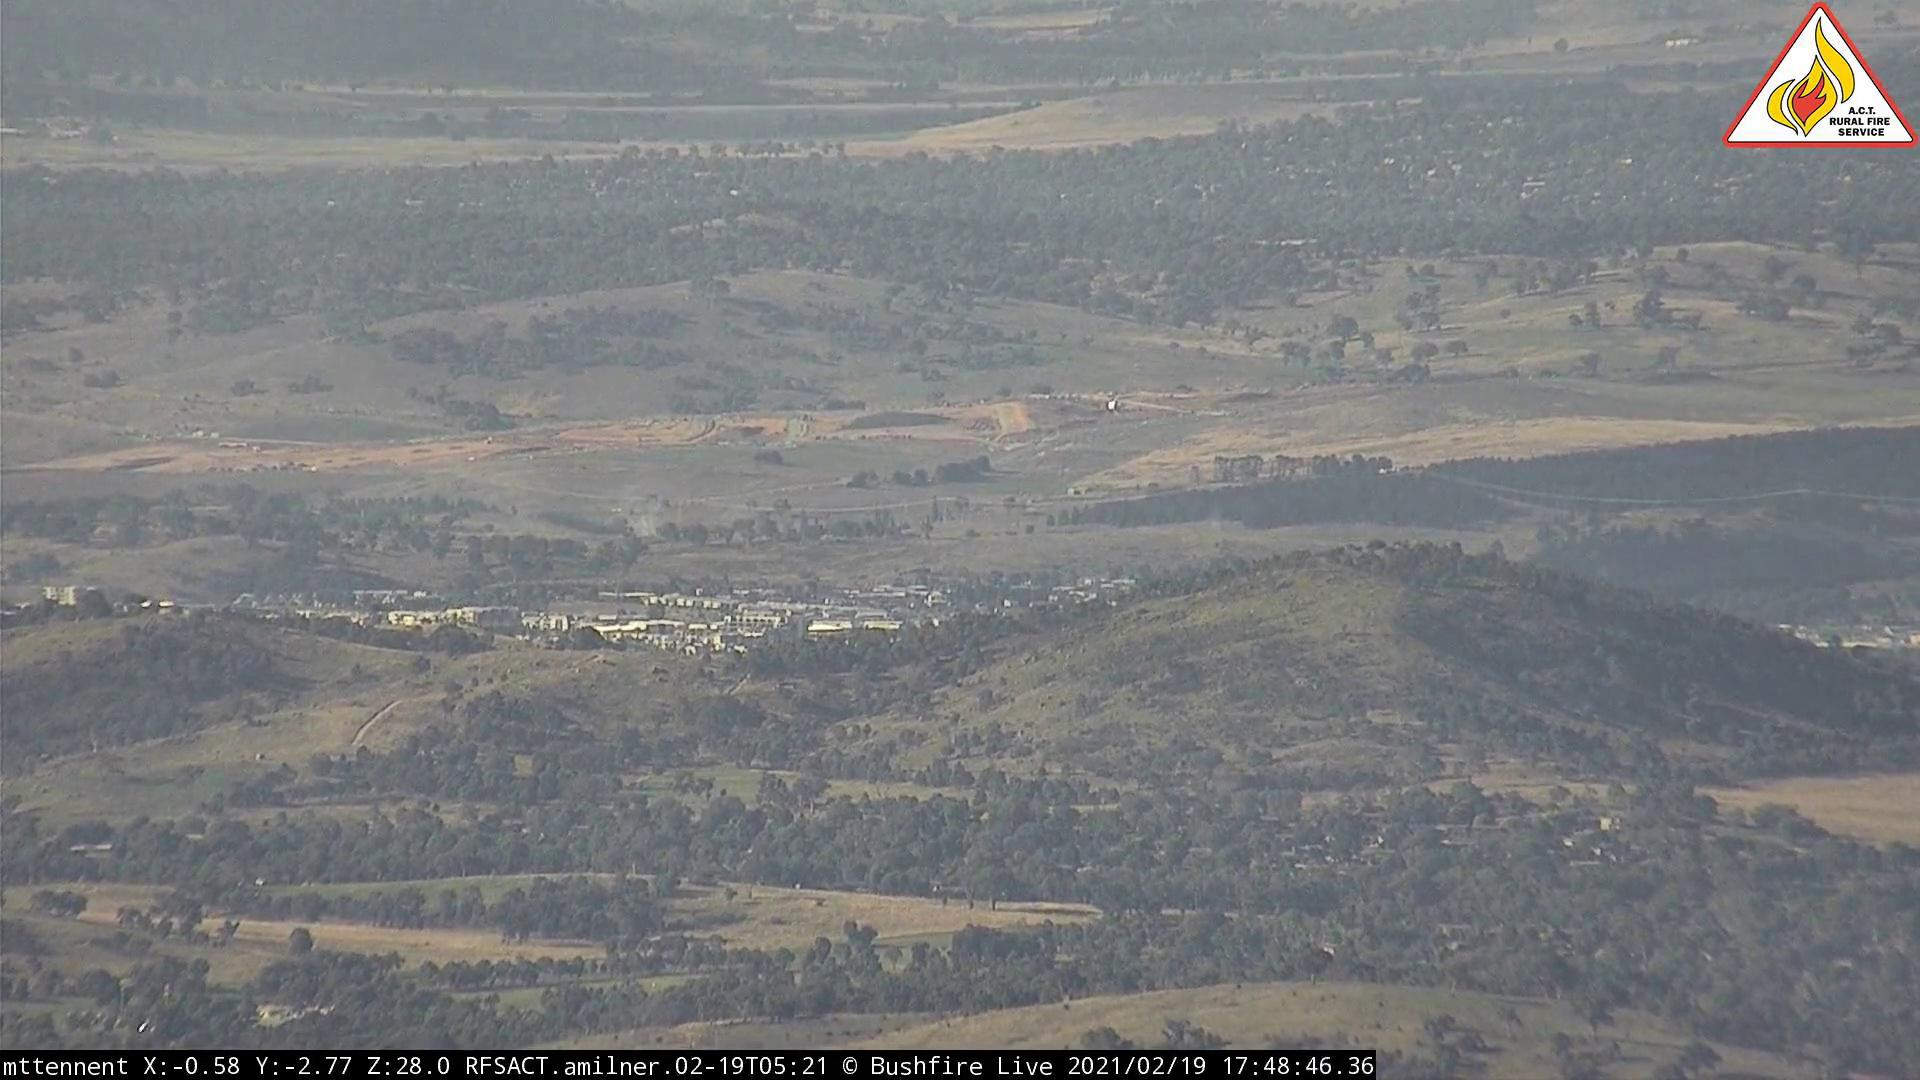Smoke: (593, 484, 679, 545)
